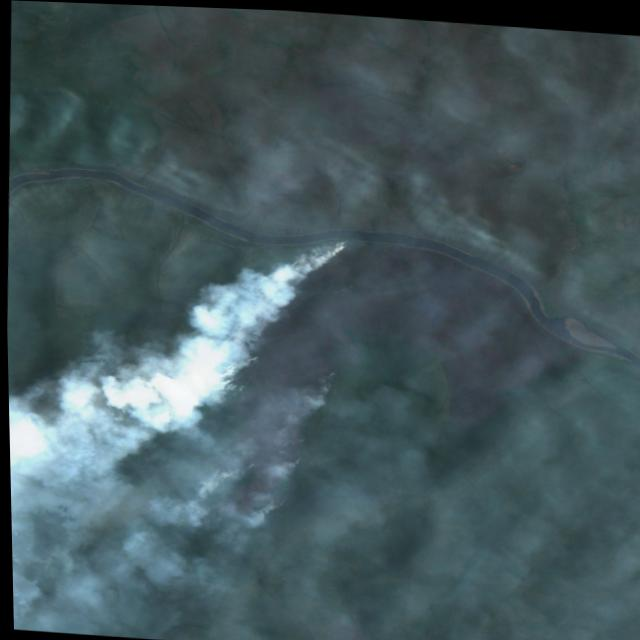fire: (174, 222, 372, 540)
